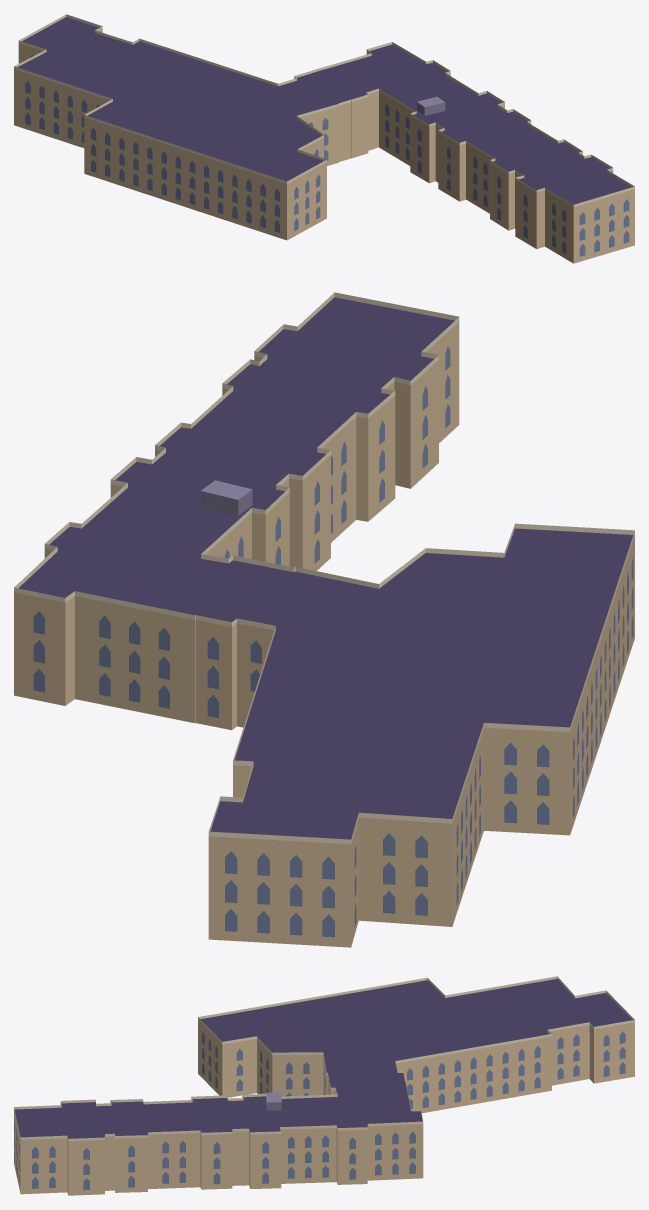
File: b-133-day.glb
The picture shows the model from 3 angles, top to bottom: view 1: azimuth 30°, elevation 25°; view 2: azimuth 150°, elevation 25°; view 3: azimuth 270°, elevation 25°; orthographic projection. The views are drawn at different scales.
Parts seen in each view (by area): view 1: campus/b-133-day-0; view 2: campus/b-133-day-0; view 3: campus/b-133-day-0.
Part boxes in pixels (x1,y1,x2,y2): campus/b-133-day-0: (14, 14, 634, 263); campus/b-133-day-0: (14, 292, 634, 947); campus/b-133-day-0: (14, 976, 634, 1195).
Size of the model in its own units: 75.78 by 13.6 by 122.
